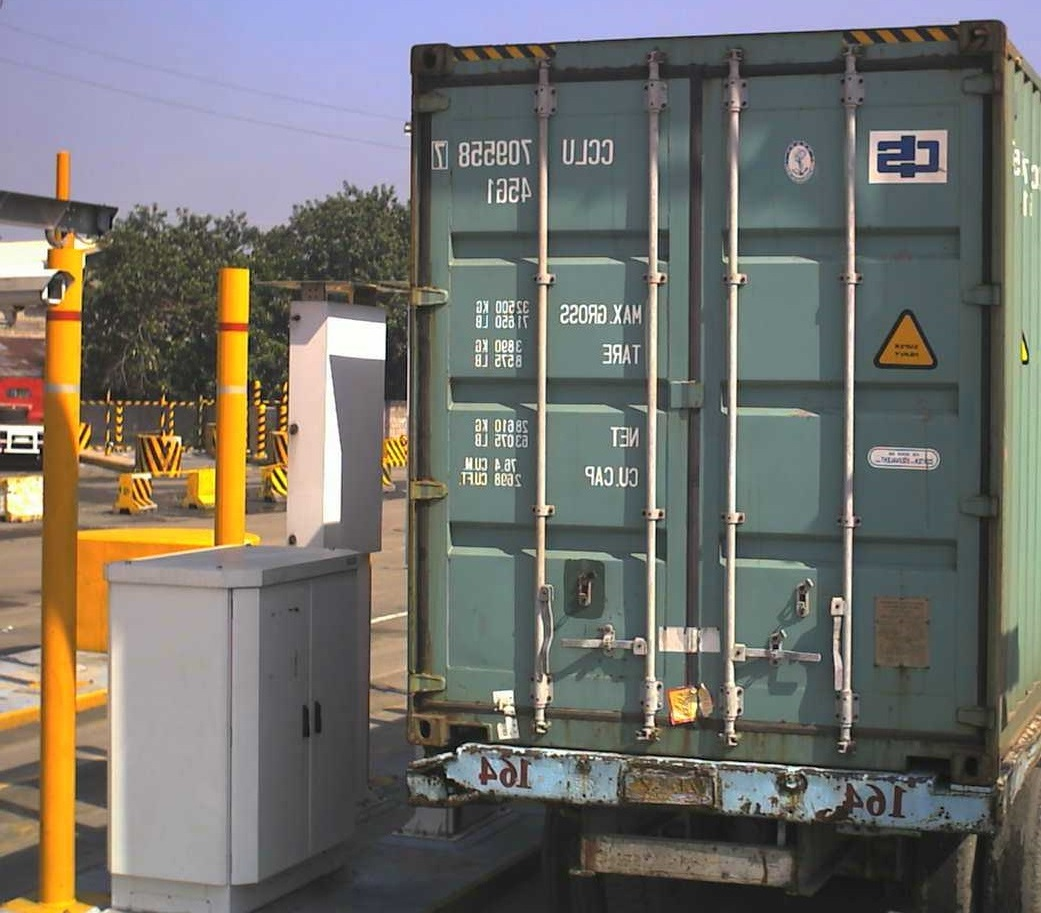container_door: (402, 18, 1010, 794)
